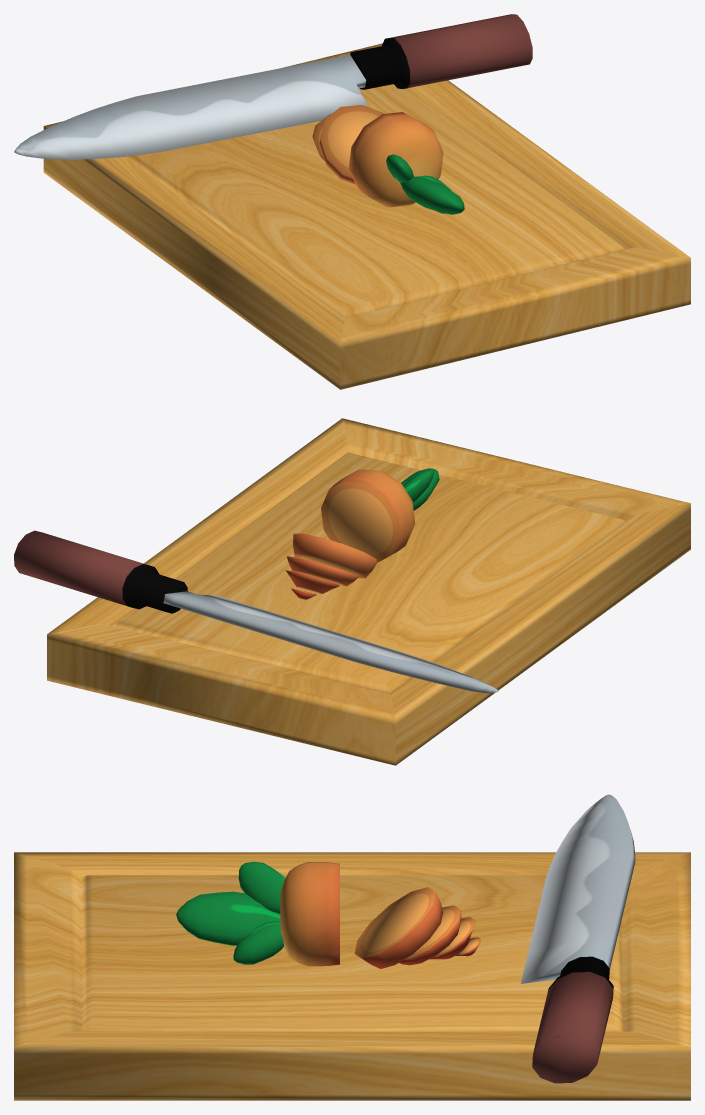
File: Prop_tabla_cortar.fbx
3 views of the same model, one above another, from view 1: azimuth 30°, elevation 25°; view 2: azimuth 150°, elevation 25°; view 3: azimuth 270°, elevation 25° (orthographic). The views are drawn at different scales.
Visible parts, largest first — view 1: Cube.002; view 2: Cube.002; view 3: Cube.002.
Boxes of the visible parts, <box> form: Cube.002: <box>14,14,690,389</box>; Cube.002: <box>14,418,690,765</box>; Cube.002: <box>14,794,690,1100</box>.
Size of the model in its own units: 40.65 by 38.82 by 9.62.
